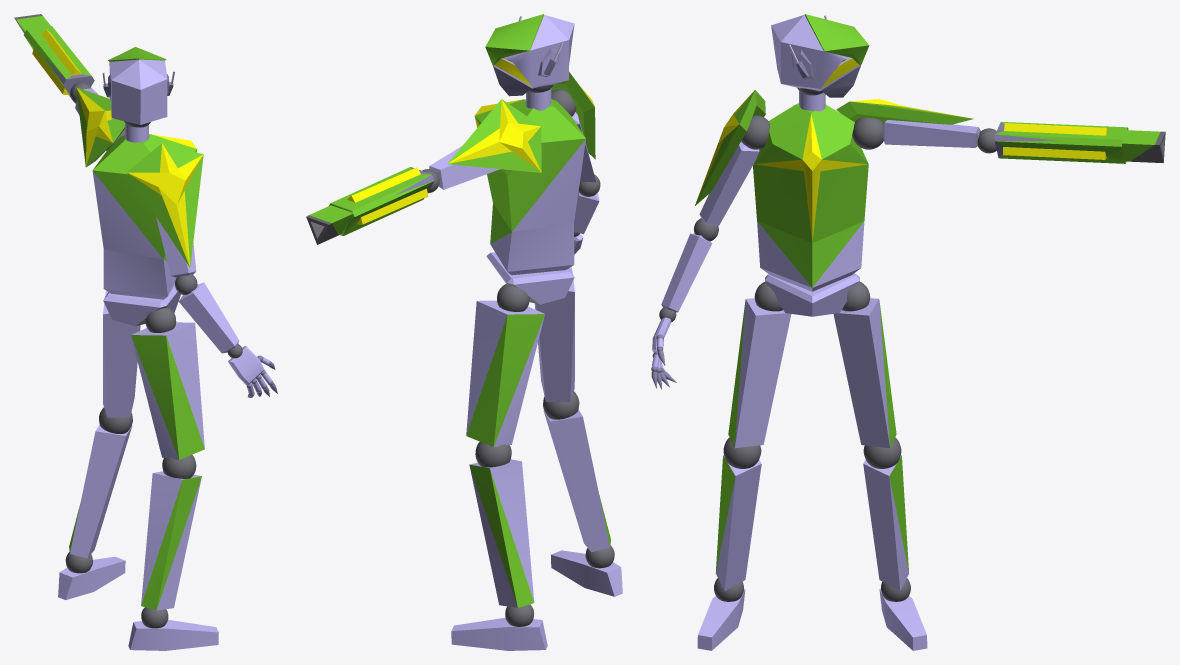
Rendered from rangergreen.fbx.
The picture shows the model from 3 angles, left to right: view 1: azimuth 30°, elevation 25°; view 2: azimuth 150°, elevation 25°; view 3: azimuth 270°, elevation 25°; orthographic projection. The views are drawn at different scales.
Visible parts, largest first — view 1: polySurface59; view 2: polySurface59; view 3: polySurface59.
Part boxes in pixels (left/top/right/bottom): polySurface59: left=14, top=14, right=277, bottom=650; polySurface59: left=306, top=14, right=622, bottom=650; polySurface59: left=651, top=14, right=1165, bottom=650.
Size of the model in its own units: 3.71 by 17.07 by 12.88.
